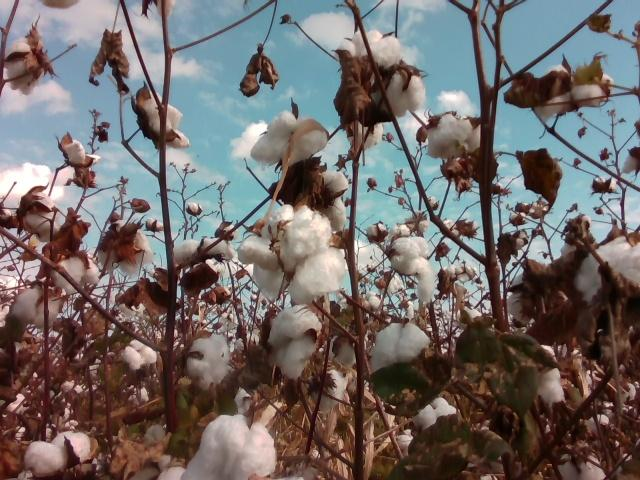cotton_ready: (238, 207, 347, 306), (337, 26, 428, 118), (180, 416, 278, 480), (267, 305, 324, 381), (537, 65, 612, 122), (577, 238, 640, 305), (249, 112, 328, 165), (387, 226, 435, 305), (25, 430, 95, 477), (370, 325, 432, 372), (143, 90, 190, 149), (427, 112, 487, 158), (96, 228, 154, 275), (6, 285, 66, 327), (190, 334, 231, 389), (4, 39, 41, 95), (534, 345, 565, 402), (25, 194, 61, 242), (557, 447, 607, 480), (53, 255, 100, 289), (311, 368, 348, 407), (174, 238, 230, 261), (63, 137, 101, 167), (120, 340, 158, 370), (420, 397, 457, 427)
